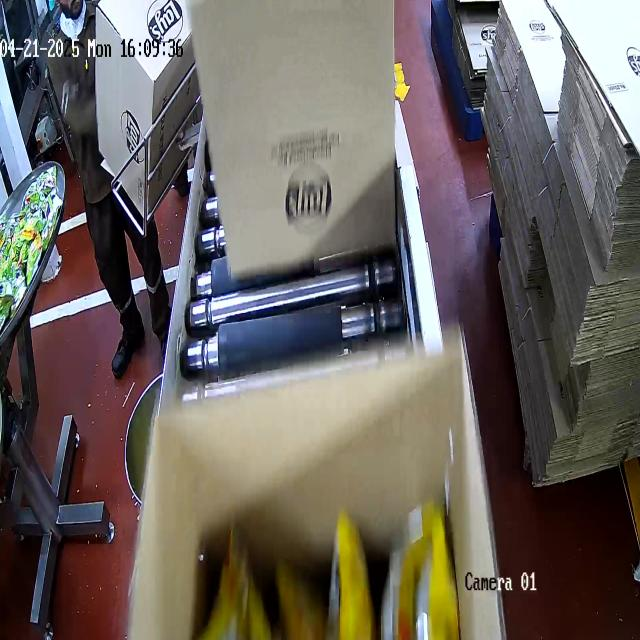SALTED: (204, 485, 454, 640)
